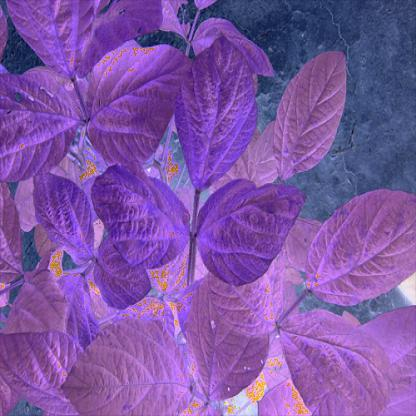Soyabean leaf: (86, 40, 195, 169), (174, 28, 259, 193), (184, 250, 272, 408), (58, 314, 194, 415), (306, 188, 415, 306), (281, 308, 400, 414), (196, 176, 307, 288), (89, 161, 191, 273), (272, 47, 347, 182), (1, 72, 79, 181), (30, 168, 96, 266), (7, 2, 94, 76)
